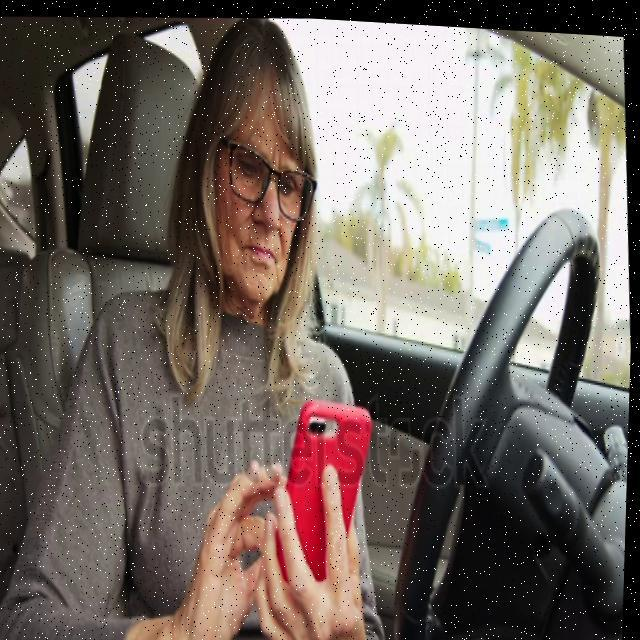PhoneCall: (255, 392, 385, 608)
